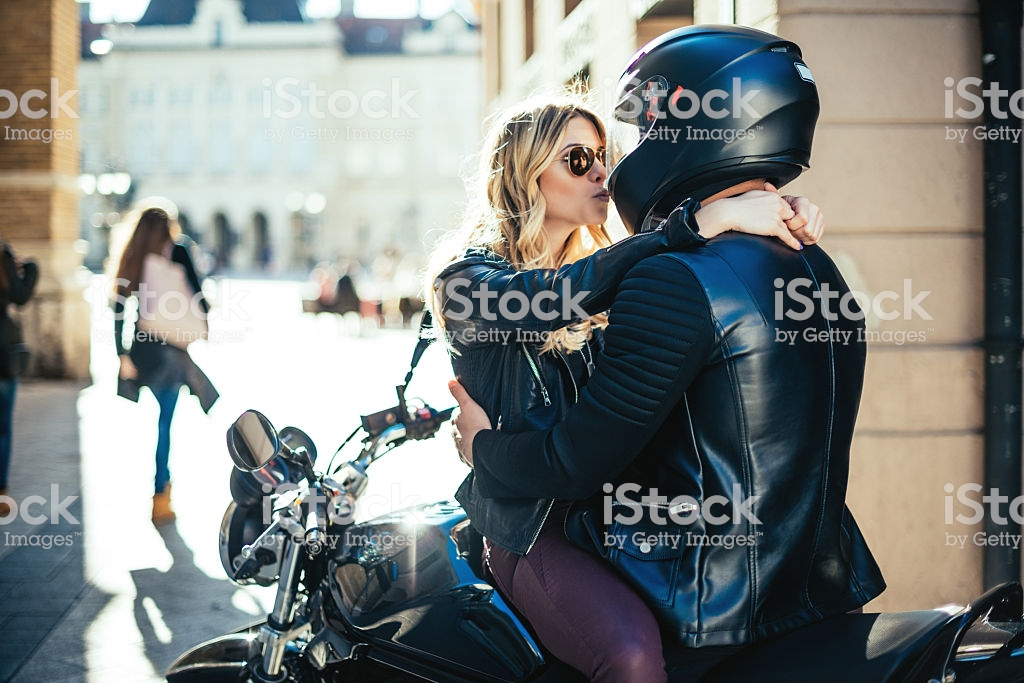helmet: (611, 42, 824, 199)
